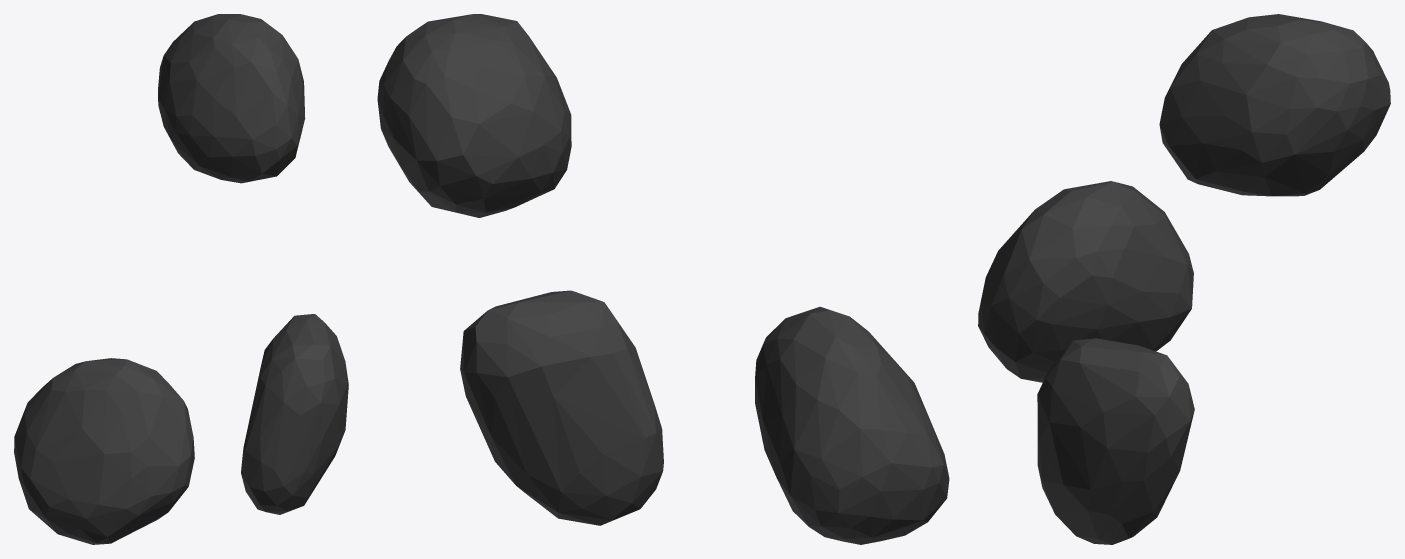
The model's file is nodes_lymph_splenic_LP.glb.
The picture shows the model from 3 angles, left to right: view 1: azimuth 30°, elevation 25°; view 2: azimuth 150°, elevation 25°; view 3: azimuth 270°, elevation 25°; orthographic projection. The views are drawn at different scales.
Parts seen in each view (by area): view 1: nodes_lymph_splenic_LP; view 2: nodes_lymph_splenic_LP; view 3: nodes_lymph_splenic_LP.
Part boxes in pixels (x1=…): nodes_lymph_splenic_LP: x1=14, y1=14, x2=348, y2=544; nodes_lymph_splenic_LP: x1=377, y1=14, x2=949, y2=544; nodes_lymph_splenic_LP: x1=978, y1=14, x2=1390, y2=544.
Size of the model in its own units: 0.0016 by 0.0019 by 0.00132.
Materials: 1 (1 with a texture image).
